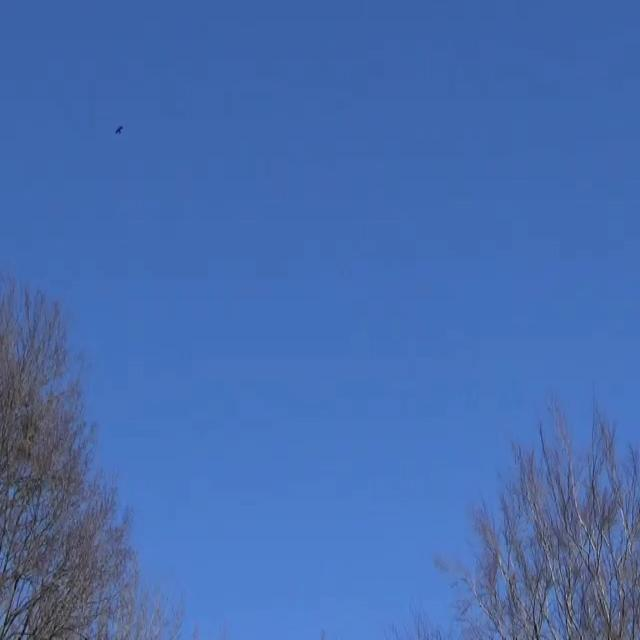bird: (112, 122, 126, 138)
